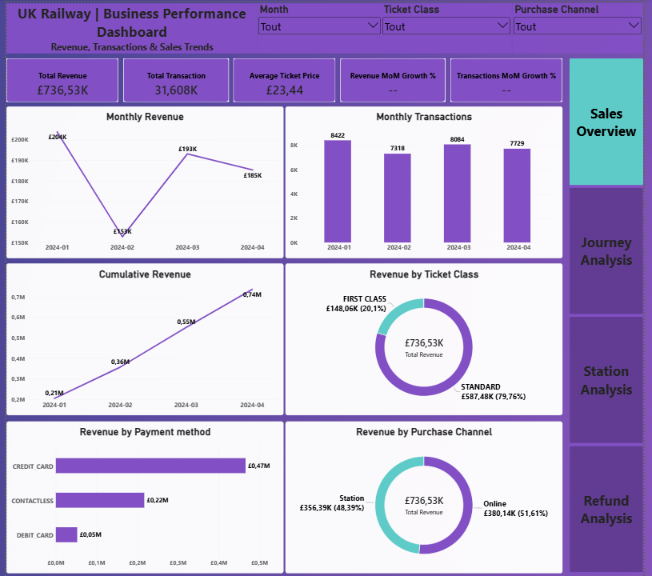

Layout of this report page (visuals, bound fields, positions):
{"tool":"powerbi","page":{"name":"Sales Overview","canvas":[2200,2000],"ordinal":0},"visuals":[{"type":"cardVisual","fields":{"Data":["Measure_Table.Total Revenue"]},"box":[0,192.5,386.2,150.7],"z":0},{"type":"cardVisual","fields":{"Data":["Measure_Table.Total Transaction"]},"box":[405,192.5,365,150.7],"z":1000},{"type":"cardVisual","fields":{"Data":["Measure_Table.Average Ticket Price"]},"box":[785,192.5,352.3,150.7],"z":2000},{"type":"cardVisual","fields":{"Data":["Measure_Table.Revenue MoM Growth %"]},"box":[1155,192.5,362.9,150.7],"z":3000},{"type":"cardVisual","fields":{"Data":["Measure_Table.Transactions MoM Growth %"]},"box":[1535,192.5,386.2,150.7],"z":4000},{"type":"lineChart","title":"Monthly Revenue","fields":{"Category":["gold dim_purchase_date.Year_Month"],"Y":["Measure_Table.Total Revenue"]},"box":[0,360,957.5,525],"z":6000},{"type":"clusteredColumnChart","title":"Monthly Transactions","fields":{"Category":["gold dim_purchase_date.Year_Month"],"Y":["Measure_Table.Total Transaction"]},"box":[962.5,360,957.5,525],"z":7000},{"type":"lineChart","title":"Cumulative Revenue","fields":{"Category":["gold dim_purchase_date.Year_Month"],"Y":["Measure_Table.Revenue Running Total"]},"box":[0,902.5,957.5,525],"z":8000},{"type":"donutChart","title":"Revenue by Ticket Class","fields":{"Category":["gold dim_tickets.Ticket_Class"],"Y":["Measure_Table.Total Revenue"]},"box":[962.5,902.5,957.5,525],"z":9000},{"type":"donutChart","title":"Revenue by Purchase Channel","fields":{"Category":["gold fact_sales.Purchase_Channel"],"Y":["Measure_Table.Total Revenue"]},"box":[962.5,1447.5,957.5,525],"z":10000},{"type":"clusteredBarChart","title":"Revenue by Payment method","fields":{"Category":["gold fact_sales.Payment_Method"],"Y":["Measure_Table.Total Revenue"]},"box":[0,1447.8,957.5,525],"z":11000},{"type":"slicer","fields":{"Values":["gold dim_purchase_date.Year_Month"]},"box":[867.5,2.5,430,172.5],"z":12000},{"type":"textbox","box":[0,2.5,867.5,172.5],"z":13000},{"type":"slicer","fields":{"Values":["gold dim_tickets.Ticket_Class"]},"box":[1297.5,2.5,450,172.5],"z":14000},{"type":"slicer","fields":{"Values":["gold fact_sales.Purchase_Channel"]},"box":[1750,2.5,450,172.5],"z":15000},{"type":"pageNavigator","box":[1945.4,193.5,255.7,1779.6],"z":16000}]}

Visuals, with their boxes in screenshot pixels (x1, y1, x2, y2), scaled from the page's 2200x2000 canvas onto the 652x576 screenshot:
cardVisual - Measure_Table.Total Revenue: [x1=0, y1=55, x2=114, y2=99]
cardVisual - Measure_Table.Total Transaction: [x1=120, y1=55, x2=228, y2=99]
cardVisual - Measure_Table.Average Ticket Price: [x1=233, y1=55, x2=337, y2=99]
cardVisual - Measure_Table.Revenue MoM Growth %: [x1=342, y1=55, x2=450, y2=99]
cardVisual - Measure_Table.Transactions MoM Growth %: [x1=455, y1=55, x2=569, y2=99]
"Monthly Revenue" lineChart: [x1=0, y1=104, x2=284, y2=255]
"Monthly Transactions" clusteredColumnChart: [x1=285, y1=104, x2=569, y2=255]
"Cumulative Revenue" lineChart: [x1=0, y1=260, x2=284, y2=411]
"Revenue by Ticket Class" donutChart: [x1=285, y1=260, x2=569, y2=411]
"Revenue by Purchase Channel" donutChart: [x1=285, y1=417, x2=569, y2=568]
"Revenue by Payment method" clusteredBarChart: [x1=0, y1=417, x2=284, y2=568]
slicer - gold dim_purchase_date.Year_Month: [x1=257, y1=1, x2=385, y2=50]
textbox: [x1=0, y1=1, x2=257, y2=50]
slicer - gold dim_tickets.Ticket_Class: [x1=385, y1=1, x2=518, y2=50]
slicer - gold fact_sales.Purchase_Channel: [x1=519, y1=1, x2=651, y2=50]
pageNavigator: [x1=577, y1=56, x2=651, y2=568]
